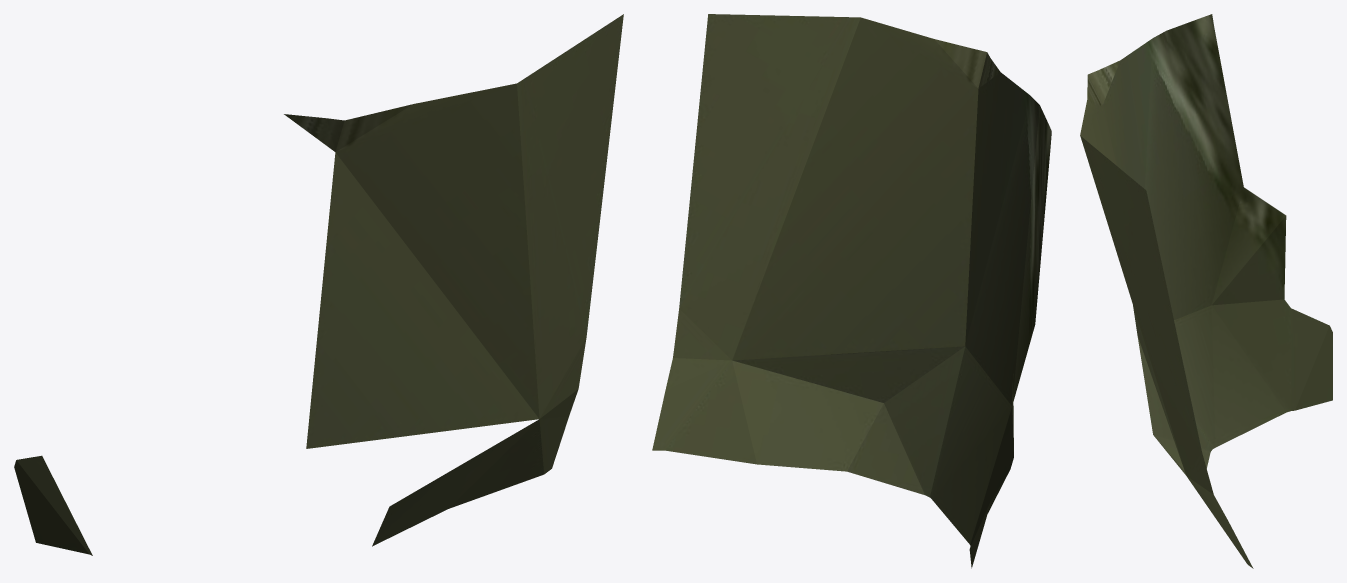
3 views of the same model, side by side, from view 1: azimuth 30°, elevation 25°; view 2: azimuth 150°, elevation 25°; view 3: azimuth 270°, elevation 25° (orthographic). The views are drawn at different scales.
Bounding box in the file's own units: 2.95 × 2.95 × 1.79.
3 materials, 3 textured.
